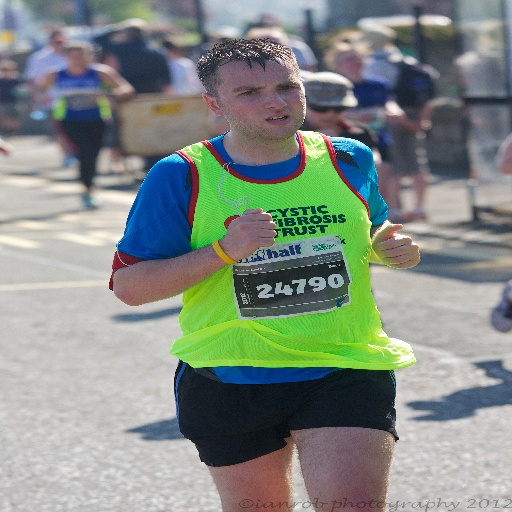hand: (219, 205, 277, 261), (375, 218, 424, 264)
